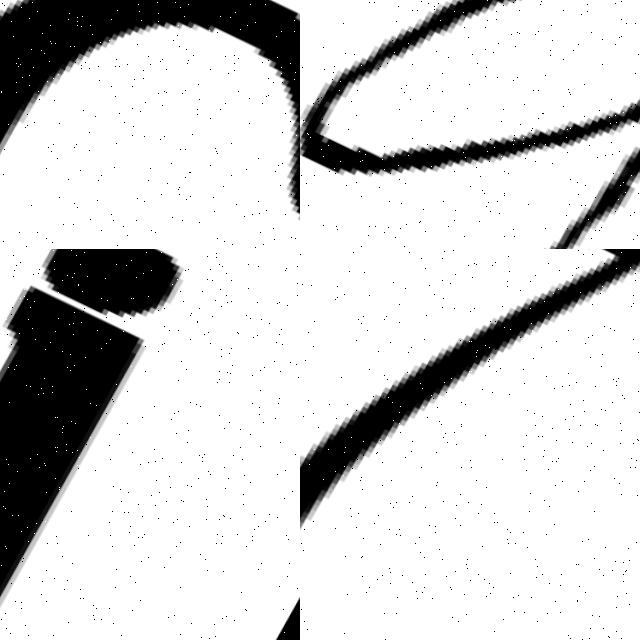7: (300, 249, 640, 640)
C: (0, 0, 300, 210)
G: (300, 0, 640, 249)
I: (0, 249, 222, 640)
